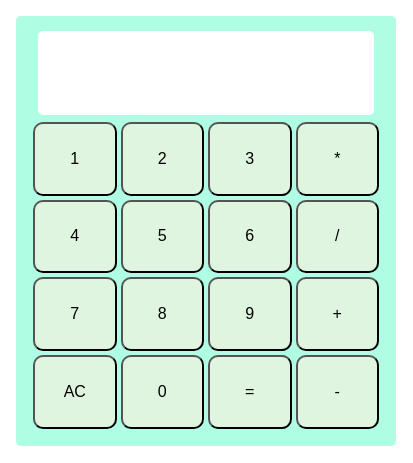
Test: Calculator › calculates the subtraction
This screenshot has width=413, height=463.
Click the button "5" at (162, 236), box [120, 200, 204, 273]
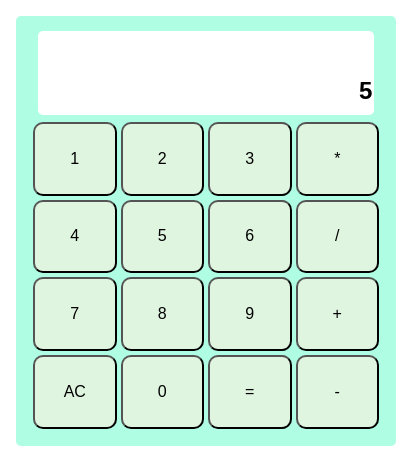
Click the button "-" at (337, 392), box [296, 355, 379, 429]
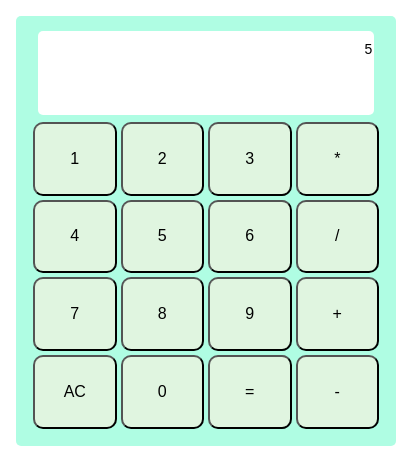
Click the button "7" at (75, 314), box [33, 277, 116, 351]
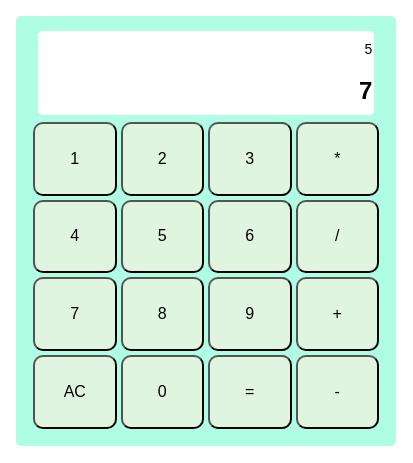
Click the button "=" at (250, 392), box [208, 355, 292, 429]
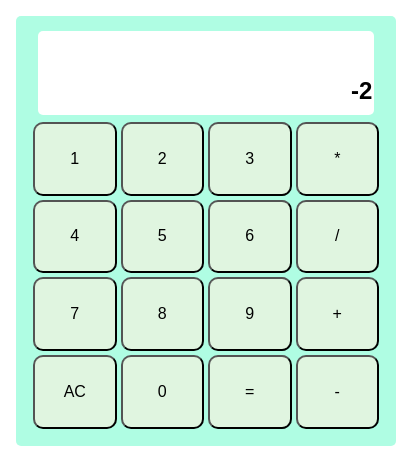
Expected: the field showing "-2" is shown, [38, 67, 374, 115]
